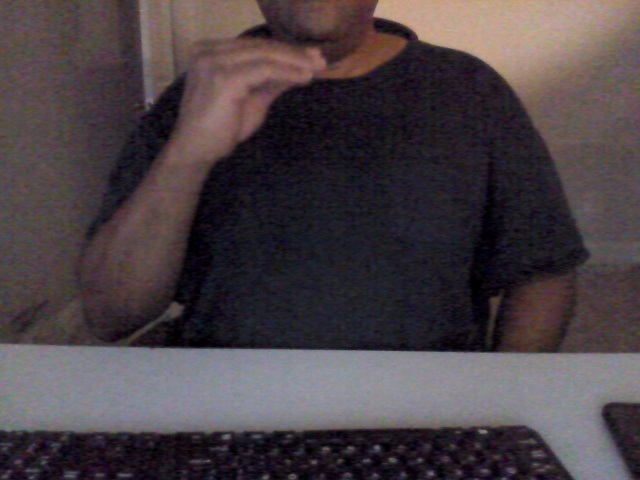eat: (172, 30, 330, 170)
